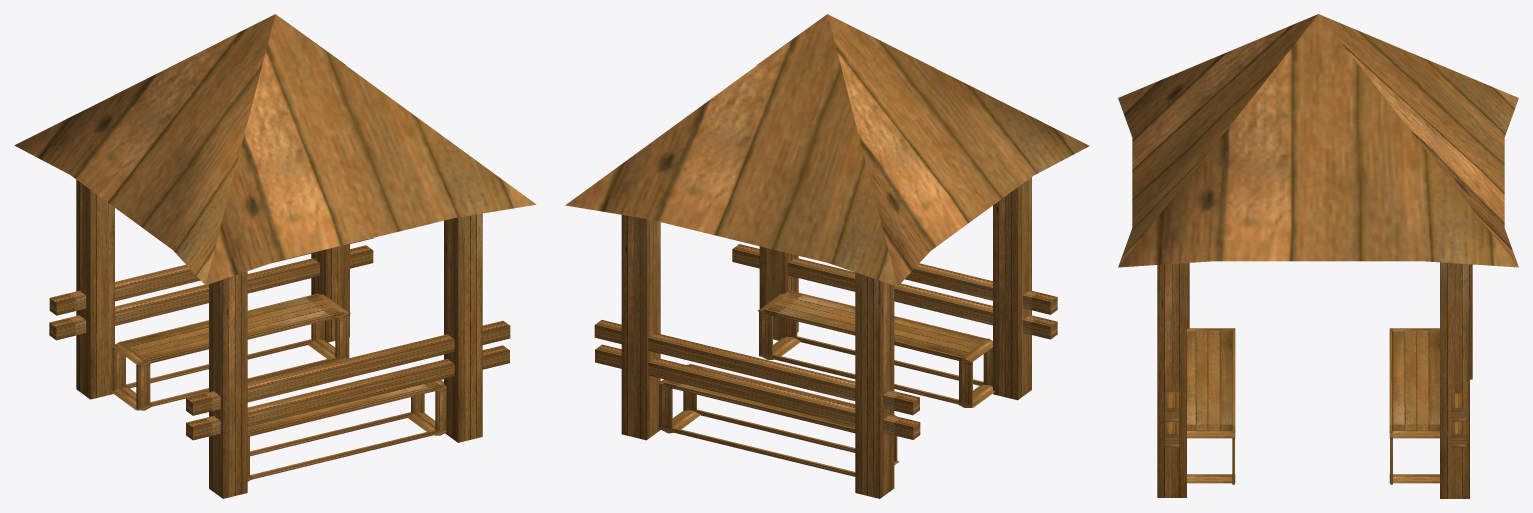
The model's file is 5S_15liangting.FBX.
The picture shows the model from 3 angles, left to right: view 1: azimuth 30°, elevation 25°; view 2: azimuth 150°, elevation 25°; view 3: azimuth 270°, elevation 25°; orthographic projection. The views are drawn at different scales.
Visible parts, largest first — view 1: 5S_woodSock001; view 2: 5S_woodSock001; view 3: 5S_woodSock001.
Boxes of the visible parts, x1=… form: 5S_woodSock001: x1=14, y1=14, x2=536, y2=498; 5S_woodSock001: x1=565, y1=14, x2=1089, y2=498; 5S_woodSock001: x1=1118, y1=14, x2=1518, y2=498.
Size of the model in its own units: 9.74 by 11.2 by 9.74.
Materials: 2 (2 with a texture image).
